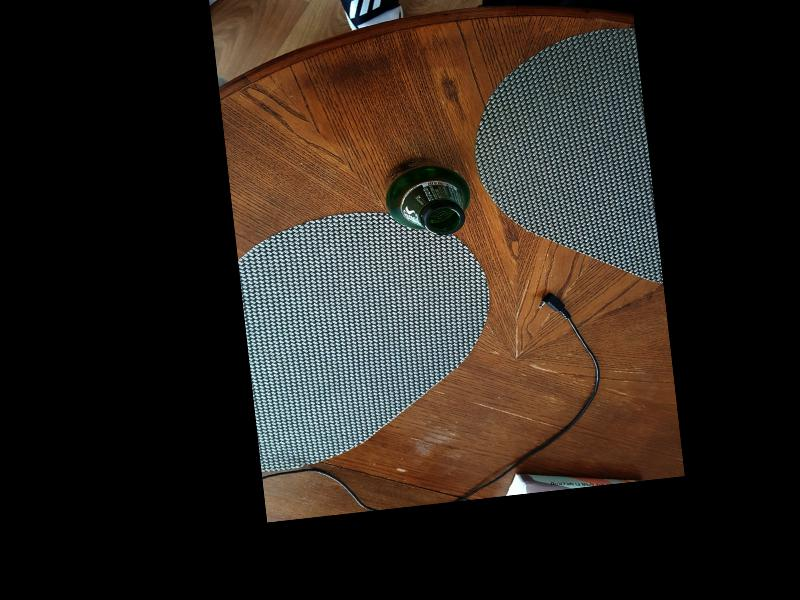Beer: (382, 153, 474, 240)
